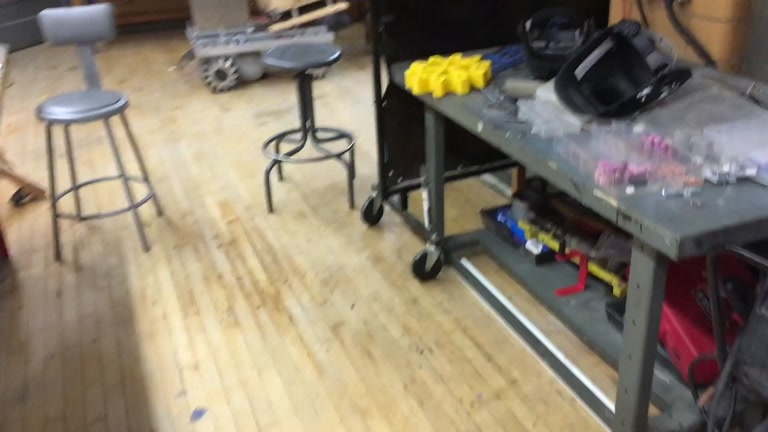gear: (403, 49, 492, 99)
